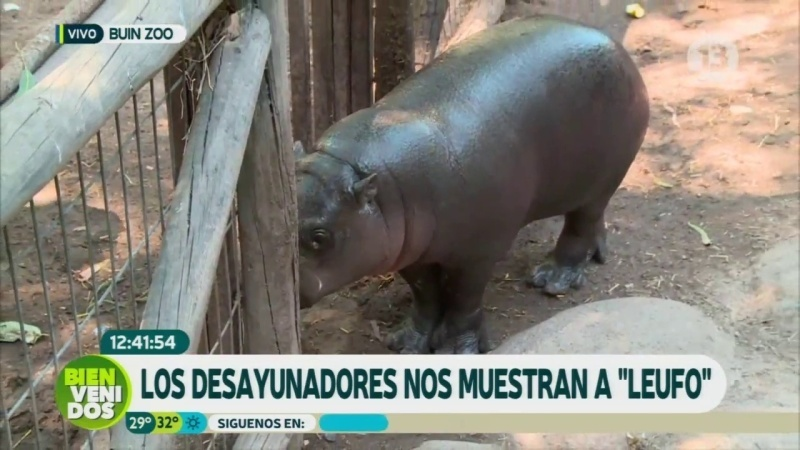hipopotamo: (257, 8, 667, 351)
